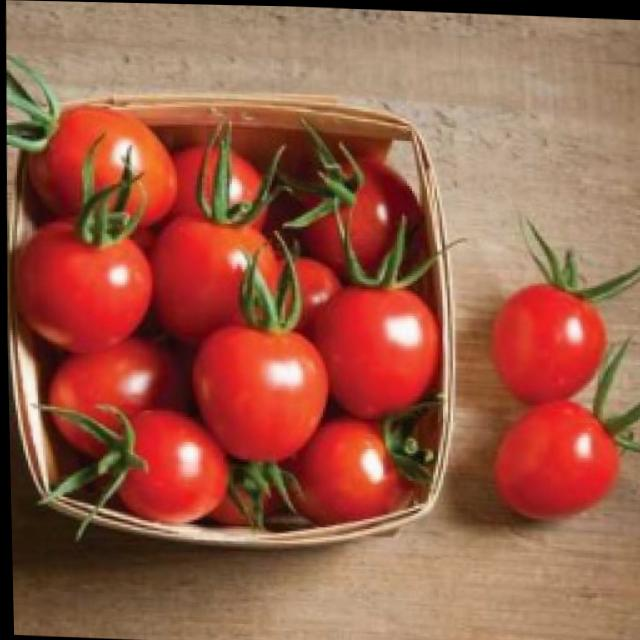tomato: (23, 102, 180, 253), (189, 321, 331, 466), (10, 217, 153, 359), (308, 282, 443, 425), (151, 212, 285, 351), (489, 391, 621, 524), (41, 333, 175, 463), (292, 148, 426, 276), (272, 409, 408, 528), (484, 274, 607, 404), (114, 408, 230, 527)
